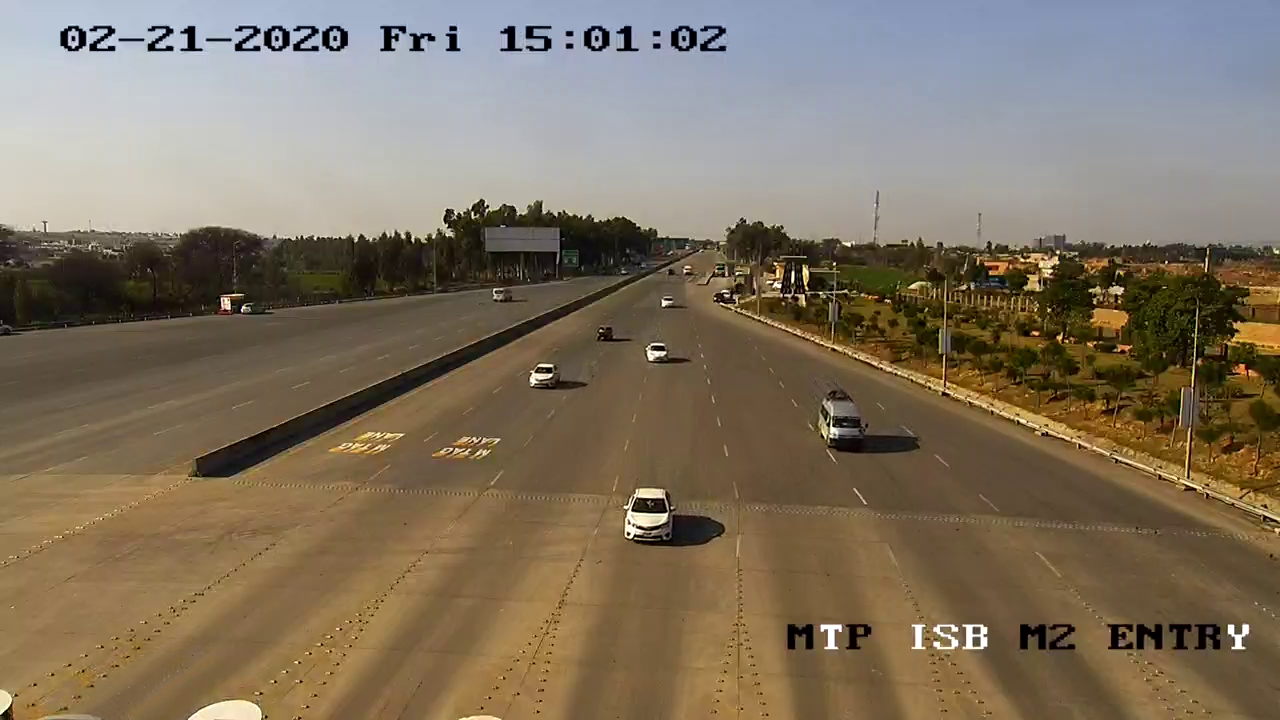f1: (608, 472, 686, 557)
f3: (808, 383, 877, 469)
